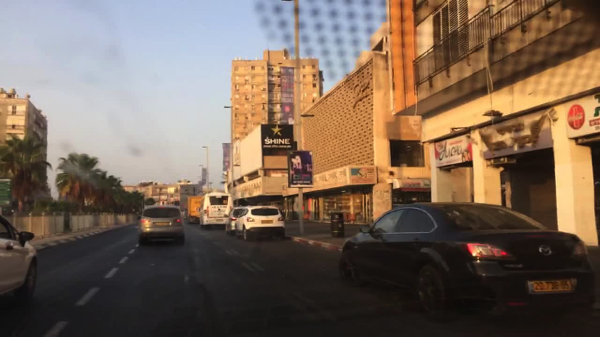bus: (198, 193, 231, 227)
car: (338, 201, 595, 320), (0, 213, 40, 303), (137, 204, 185, 240), (236, 206, 286, 240), (224, 207, 244, 234)
truck: (184, 197, 201, 224)
